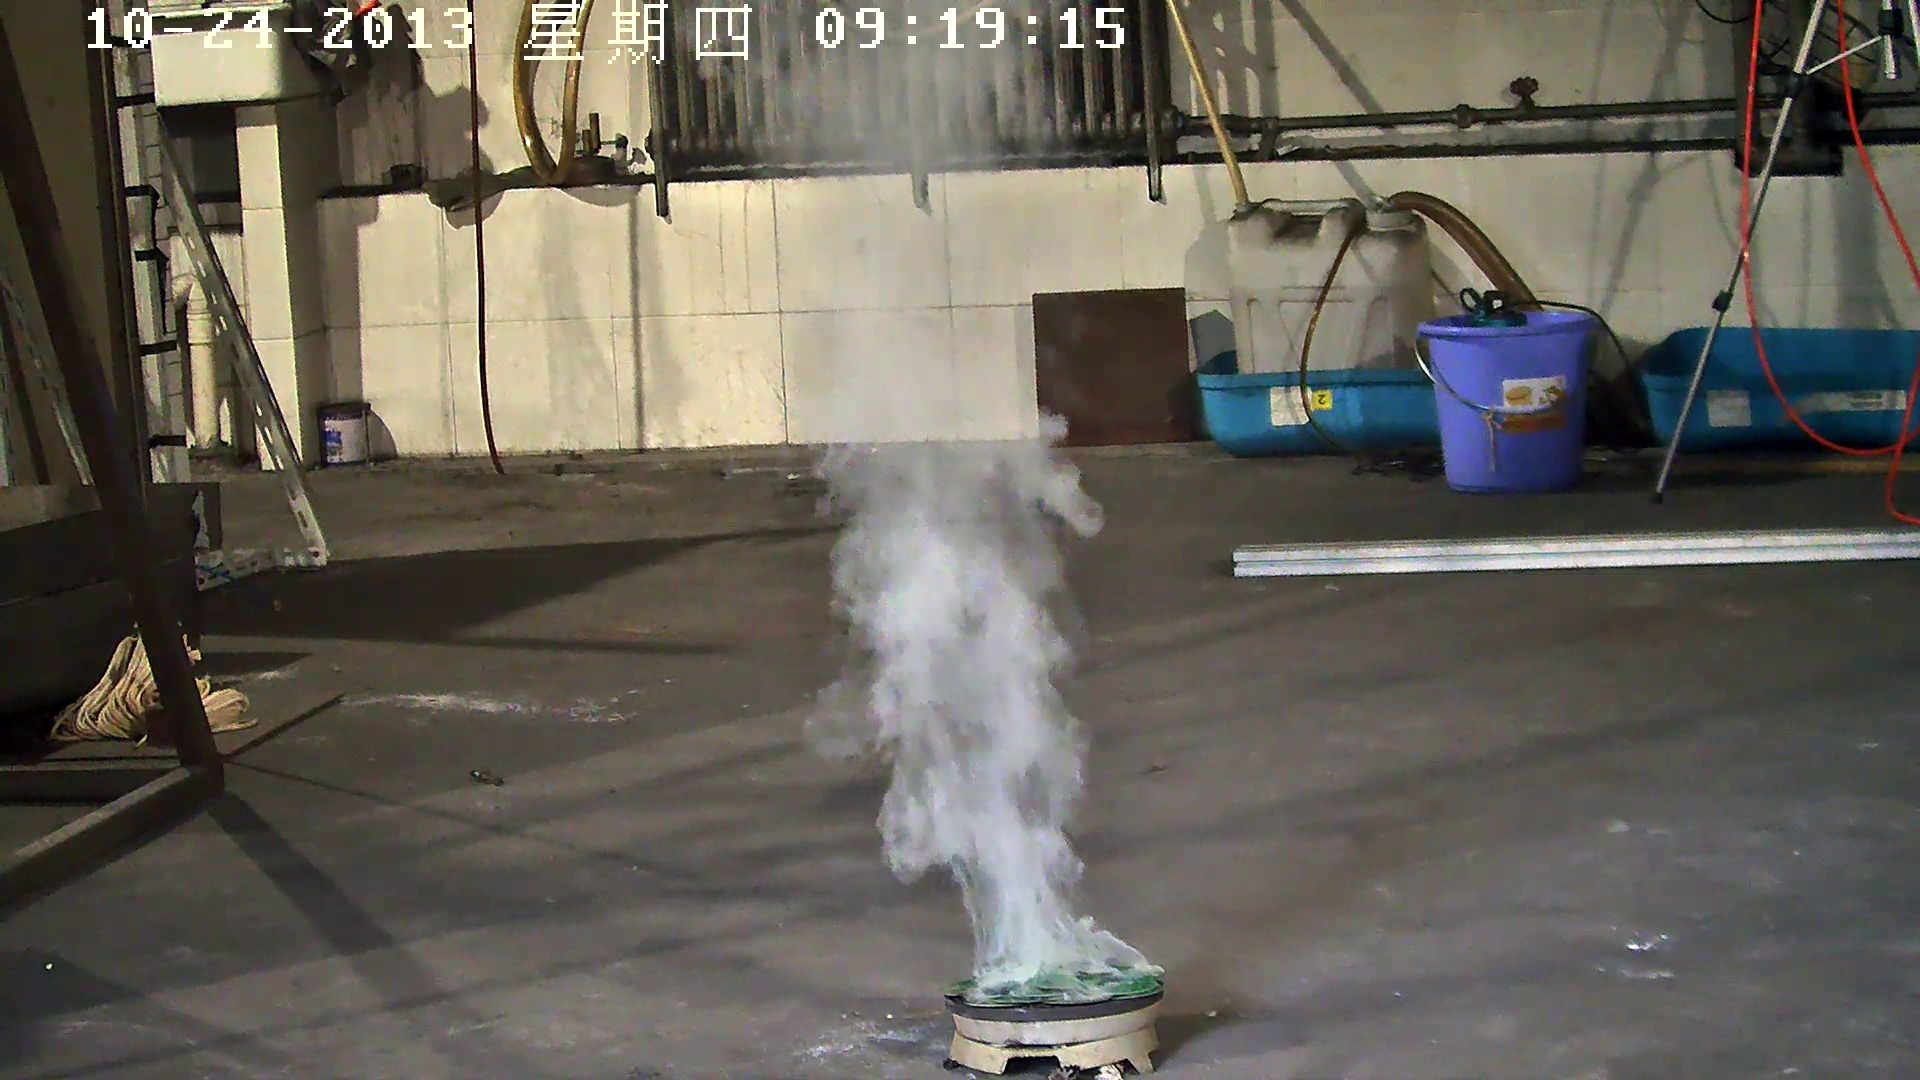smoke: (733, 45, 1179, 984)
